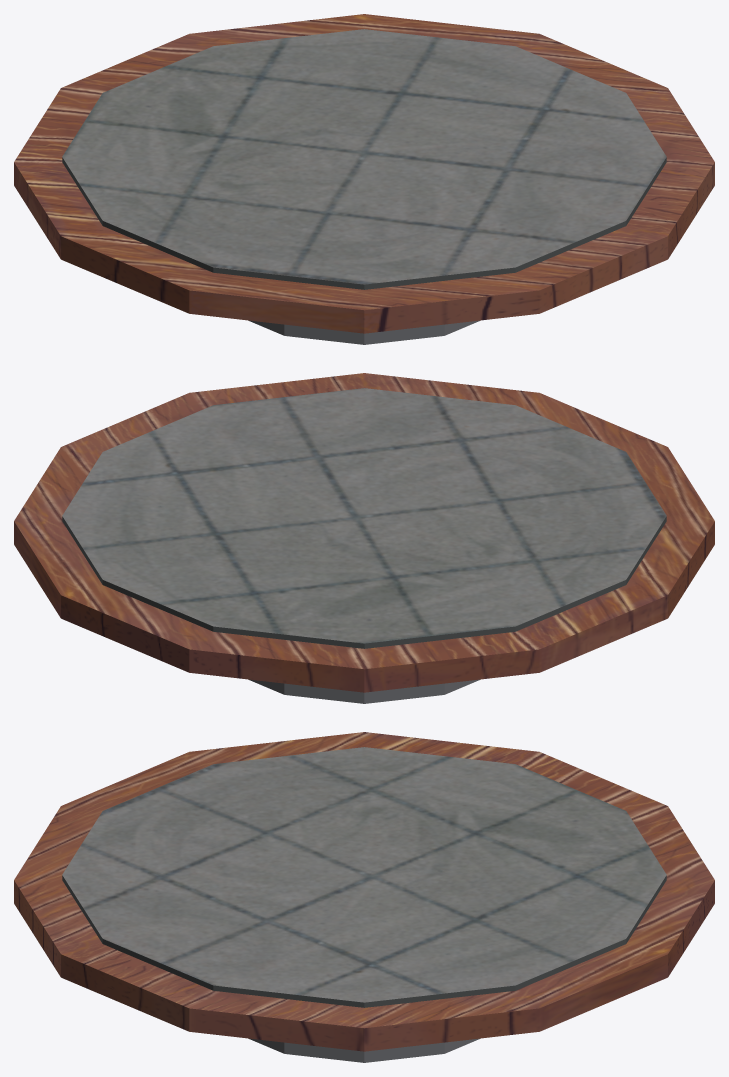
The model's file is Pentagram Table.glb.
3 views of the same model, one above another, from view 1: azimuth 30°, elevation 25°; view 2: azimuth 150°, elevation 25°; view 3: azimuth 270°, elevation 25° (orthographic).
Visible parts, largest first — view 1: Cylinder.001, Cylinder; view 2: Cylinder.001, Cylinder; view 3: Cylinder.001, Cylinder.
Part boxes in pixels (left/top/right/bottom): Cylinder.001: left=14, top=14, right=714, bottom=333; Cylinder: left=248, top=320, right=480, bottom=344; Cylinder.001: left=14, top=373, right=714, bottom=692; Cylinder: left=248, top=679, right=480, bottom=703; Cylinder.001: left=14, top=732, right=714, bottom=1051; Cylinder: left=248, top=1038, right=480, bottom=1062.
Size of the model in its own units: 4.38 by 0.8295 by 4.38.
Materials: 1 (1 with a texture image).
